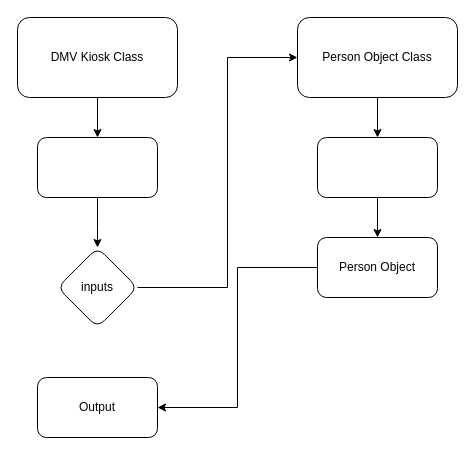
Some shapes in this 475 by 455 pixel diagram are drawn without their labels. Each missing label, with the centre of its shape:
"Main Method" belongs at pixel 97 167.
"Number generation methods" belongs at pixel 377 167.
